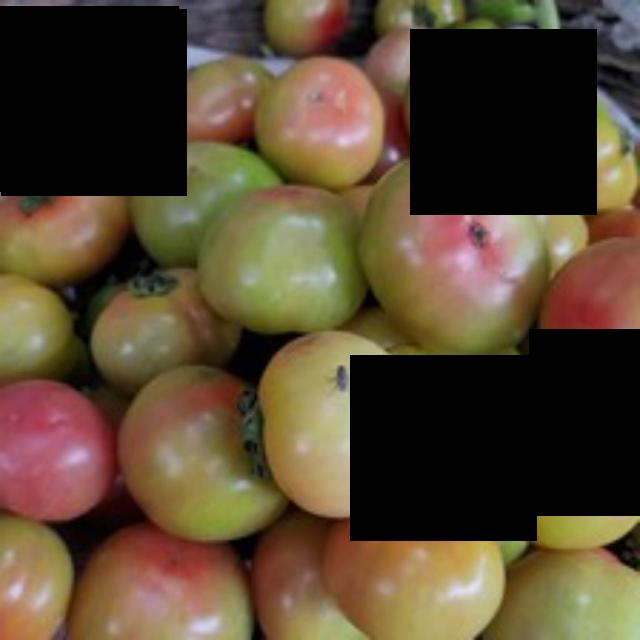tomato: (0, 366, 118, 527)
